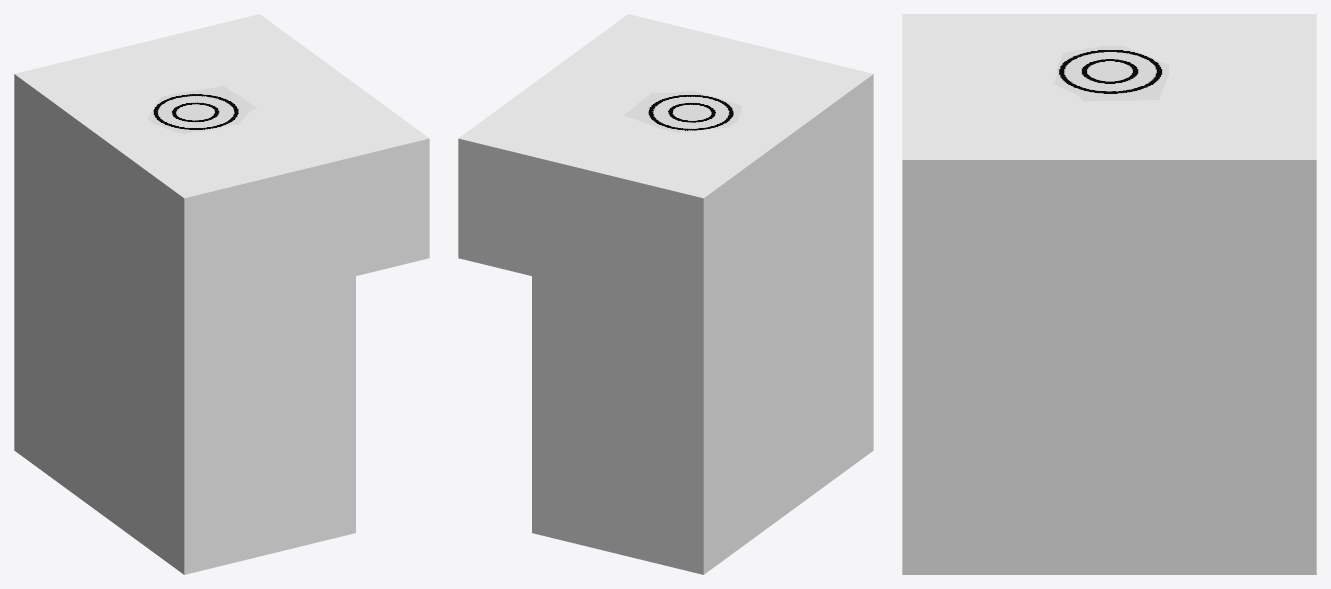
File: simple_table.dae
3 renders of one model, left to right at view 1: azimuth 30°, elevation 25°; view 2: azimuth 150°, elevation 25°; view 3: azimuth 270°, elevation 25°, orthographic. The views are drawn at different scales.
Parts seen in each view (by area): view 1: experimental_stand; view 2: experimental_stand; view 3: experimental_stand.
Boxes of the visible parts, box(x1,y1,x2,y2) form: experimental_stand: box(14, 14, 429, 574); experimental_stand: box(458, 14, 873, 574); experimental_stand: box(902, 14, 1316, 574).
Size of the model in its own units: 0.5 by 0.6 by 0.733.
Materials: 1 (1 with a texture image).
